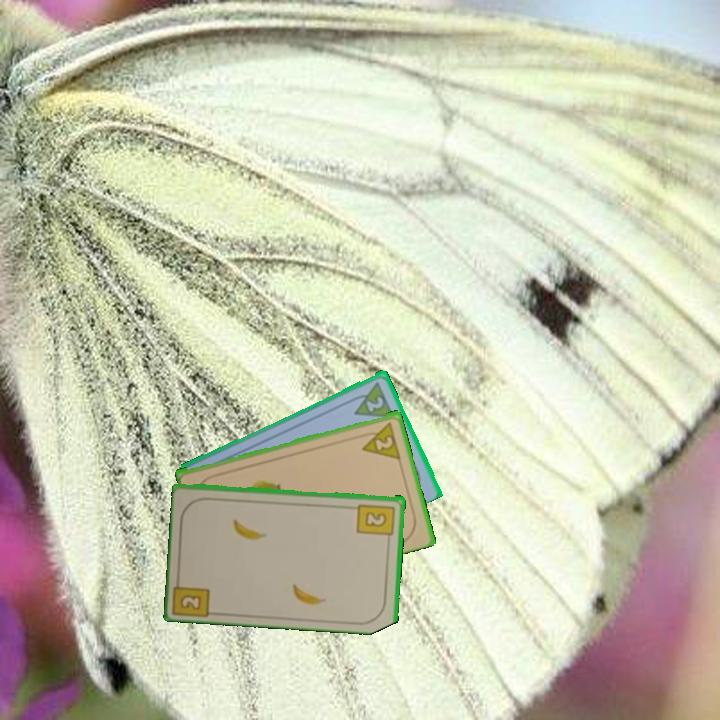2b: (354, 500, 398, 544), (172, 572, 214, 618)
2p: (346, 377, 397, 420), (356, 418, 403, 461)
